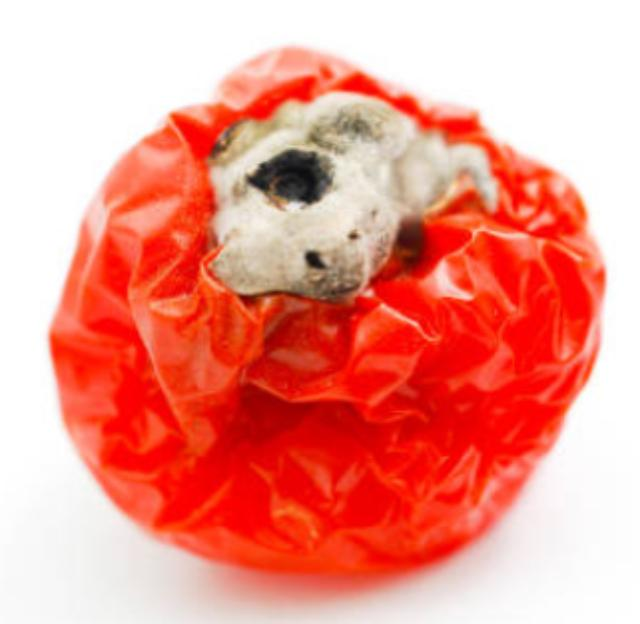defect: (41, 34, 610, 584)
